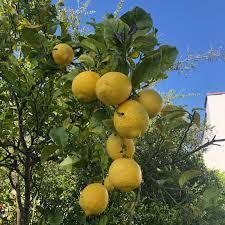lemon: (114, 99, 149, 138), (96, 72, 132, 104), (109, 158, 142, 192), (78, 182, 108, 217), (72, 70, 100, 102), (135, 89, 162, 119), (107, 132, 136, 159), (52, 44, 73, 64)
